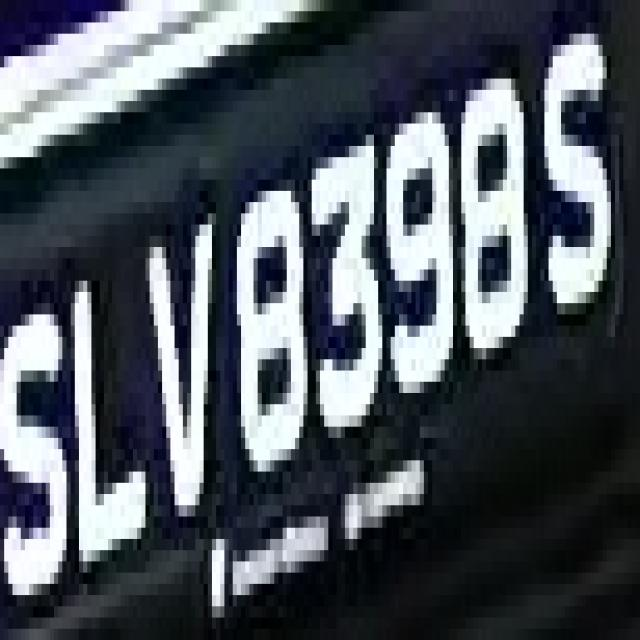3: (299, 101, 391, 472)
8: (457, 56, 536, 393), (232, 157, 312, 472)
9: (370, 56, 457, 438)
L: (54, 236, 150, 584)
S: (528, 23, 627, 314)
V: (137, 202, 229, 562)
